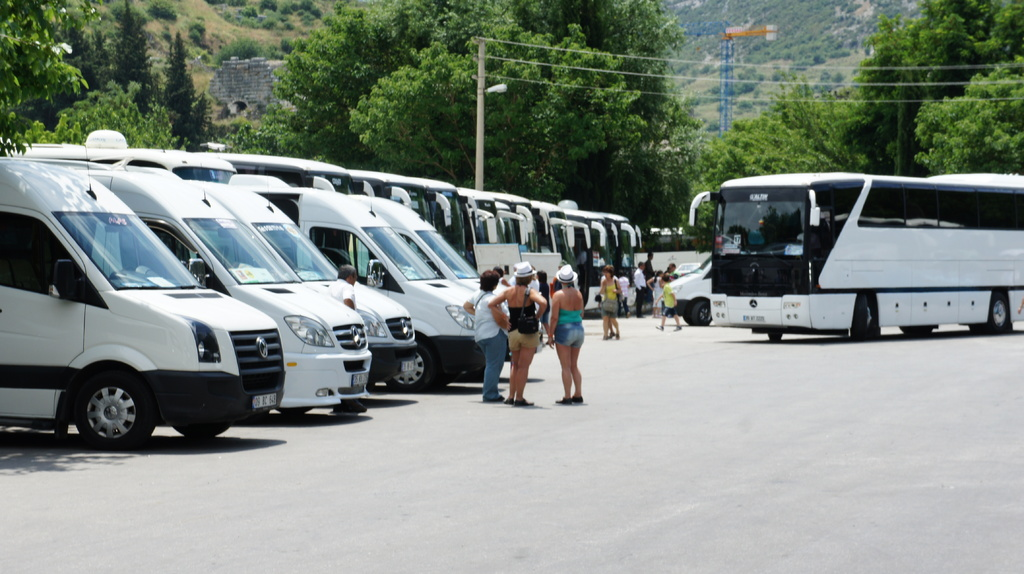Bus: (0, 127, 643, 451), (686, 170, 1023, 343)
